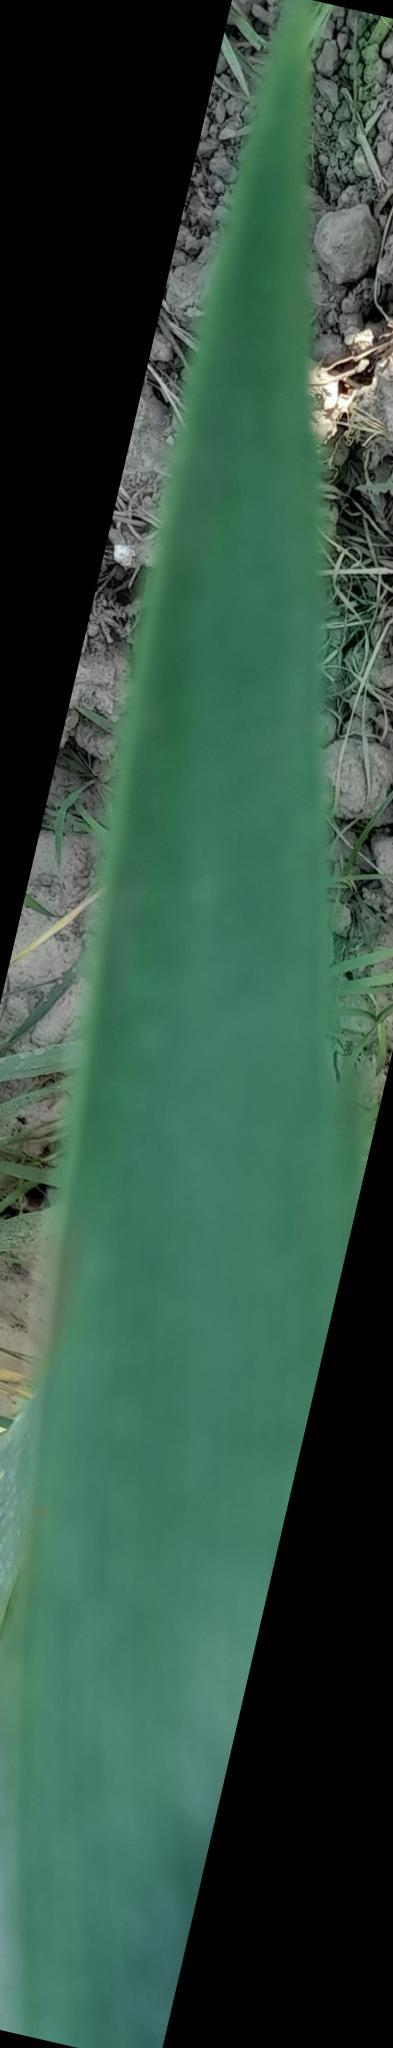Potato: (17, 266, 347, 1904)
